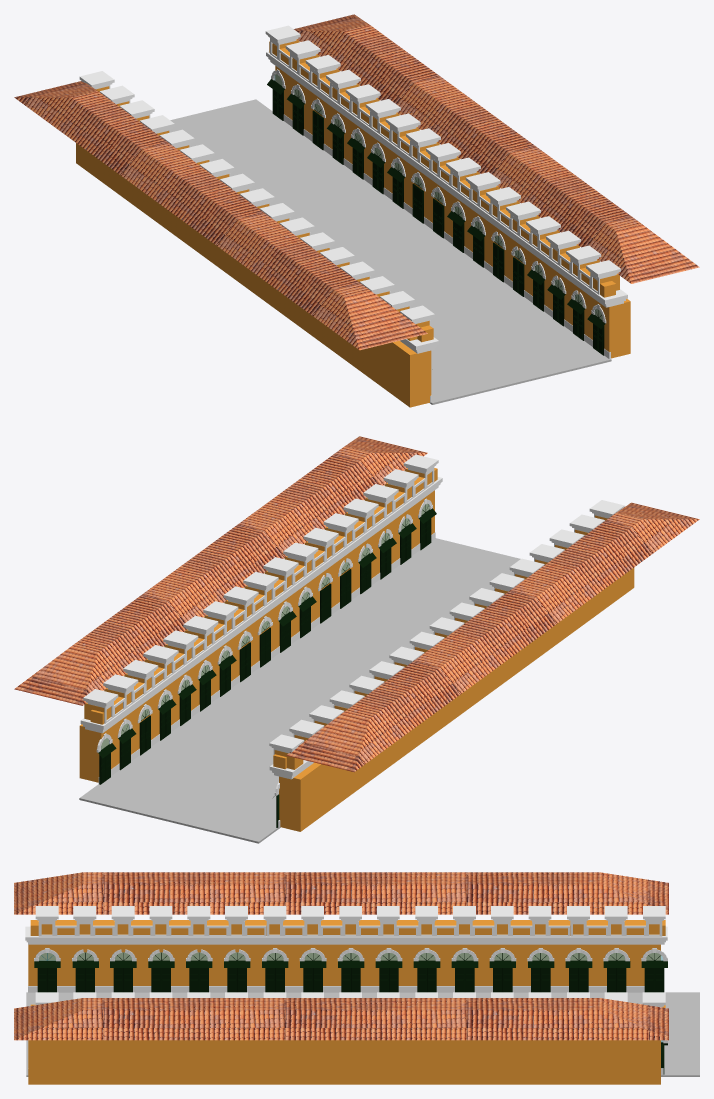
Rendered from mercado_mais leve.FBX.
3 views of the same model, one above another, from view 1: azimuth 30°, elevation 25°; view 2: azimuth 150°, elevation 25°; view 3: azimuth 270°, elevation 25° (orthographic). The views are drawn at different scales.
Parts seen in each view (by area): view 1: Box017, Box683, Box684, Box002, Box326, Box578, Box432, todos vidros, Box441; view 2: Box017, Box683, Box684, Box002, Box326, Box578, Box432, todos vidros, Box441; view 3: Box326, Box684, Box683, Box002, Box577, Box017, Box686, Box019, todos vidros, Box244, Box072, Box087 (+32 smaller).
Boxes of the visible parts, <box> form: Box017: <box>170,99,611,404</box>; Box683: <box>14,81,427,350</box>; Box684: <box>294,14,699,283</box>; Box002: <box>76,143,431,407</box>; Box326: <box>275,66,630,358</box>; Box578: <box>266,51,627,307</box>; Box432: <box>269,41,615,297</box>; todos vidros: <box>271,70,605,320</box>; Box441: <box>283,114,610,358</box>; Box017: <box>79,538,520,843</box>; Box683: <box>286,502,699,772</box>; Box684: <box>14,436,427,705</box>; Box002: <box>279,567,634,831</box>; Box326: <box>79,490,434,782</box>; Box578: <box>80,477,442,733</box>; Box432: <box>90,468,437,724</box>; todos vidros: <box>97,499,432,792</box>; Box441: <box>98,532,435,783</box>; Box326: <box>28,1040,660,1084</box>; Box684: <box>14,998,668,1040</box>; Box683: <box>14,872,668,914</box>; Box002: <box>28,944,660,985</box>; Box577: <box>25,926,667,944</box>; Box017: <box>26,992,699,1076</box>; Box686: <box>30,920,665,935</box>; Box019: <box>28,985,644,992</box>; todos vidros: <box>35,949,666,1041</box>; Box244: <box>644,968,664,992</box>; Box072: <box>151,968,170,992</box>; Box087: <box>227,968,246,992</box>.
Size of the model in its own units: 1121 by 315 by 2065.
